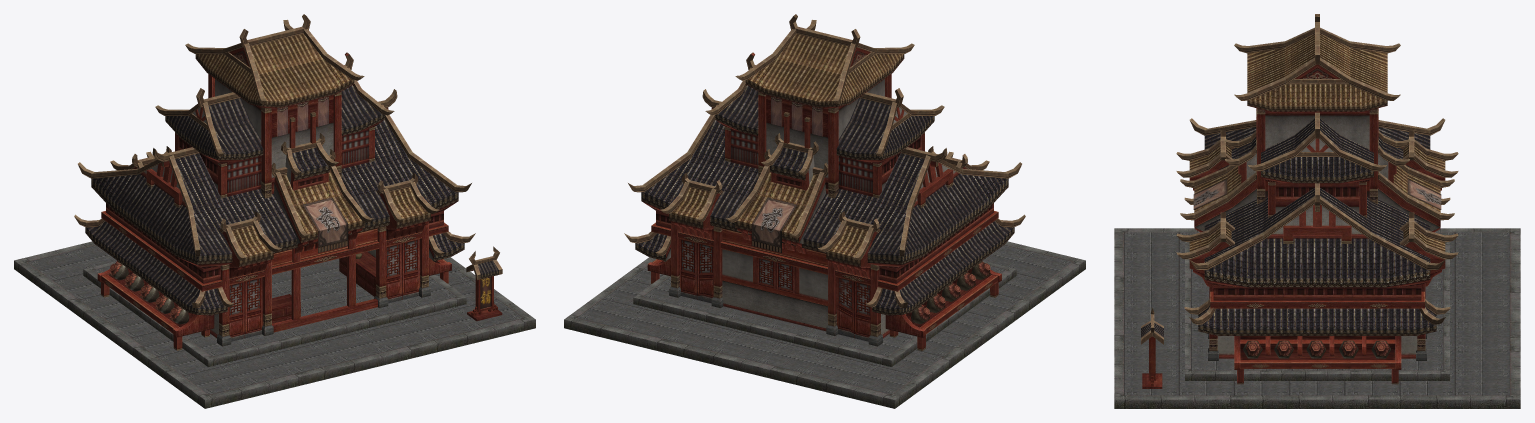
3 renders of one model, left to right at view 1: azimuth 30°, elevation 25°; view 2: azimuth 150°, elevation 25°; view 3: azimuth 270°, elevation 25°, orthographic. The views are drawn at different scales.
Visible parts, largest first — view 1: g_58; view 2: g_58; view 3: g_58.
Boxes of the visible parts, x1=… form: g_58: x1=14, y1=14, x2=535, y2=408; g_58: x1=564, y1=14, x2=1085, y2=408; g_58: x1=1114, y1=14, x2=1520, y2=408.
Size of the model in its own units: 20 by 15.97 by 20.
2 materials, 2 textured.
